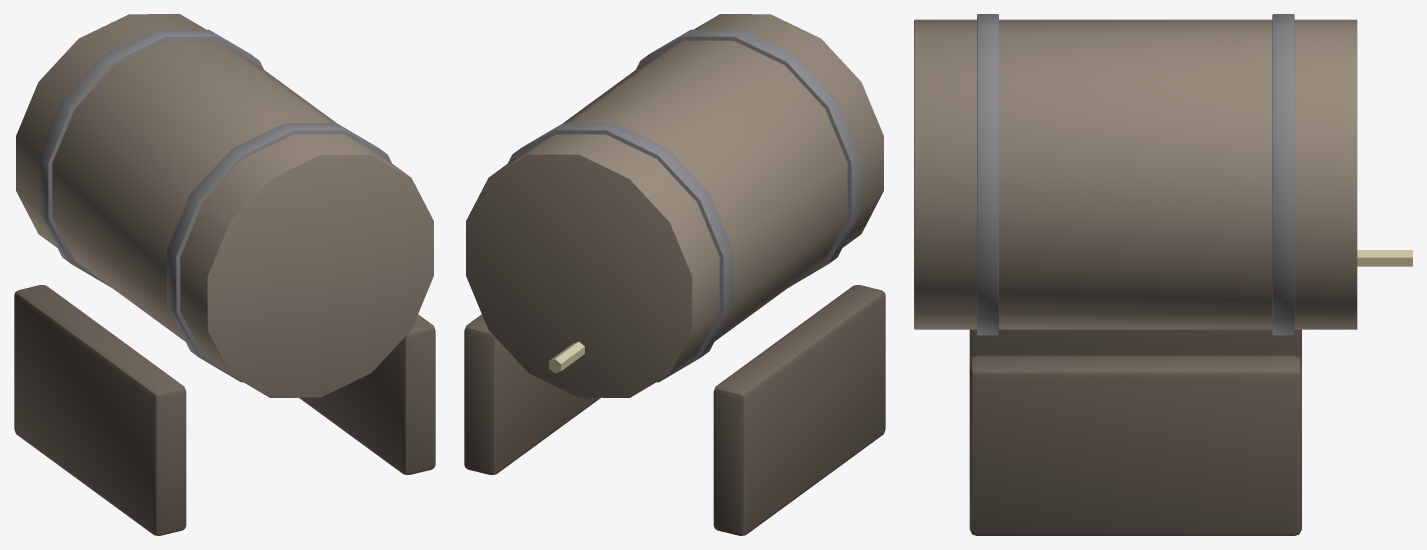
The model's file is keg.gltf.
3 views of the same model, side by side, from view 1: azimuth 30°, elevation 25°; view 2: azimuth 150°, elevation 25°; view 3: azimuth 270°, elevation 25° (orthographic). The views are drawn at different scales.
Parts seen in each view (by area): view 1: Body; view 2: Body; view 3: Body.
Boxes of the visible parts, x1,y1,x2,y2 form: Body: (14,14,435,535); Body: (464,14,885,535); Body: (914,14,1412,535).
Bounding box in the file's own units: 1.02 × 1.29 × 1.35.
